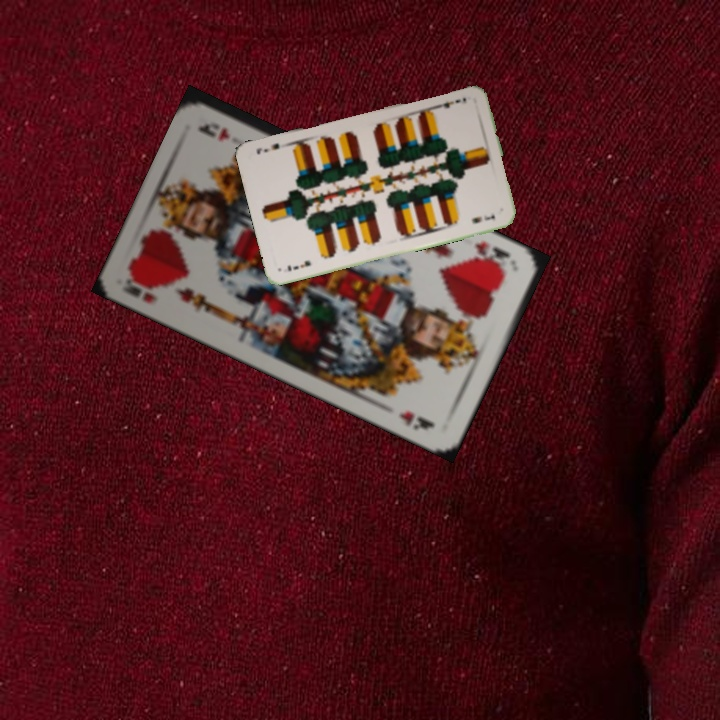E7: (432, 93, 469, 111), (283, 257, 313, 274)
HK: (469, 237, 513, 274), (119, 271, 161, 306)
